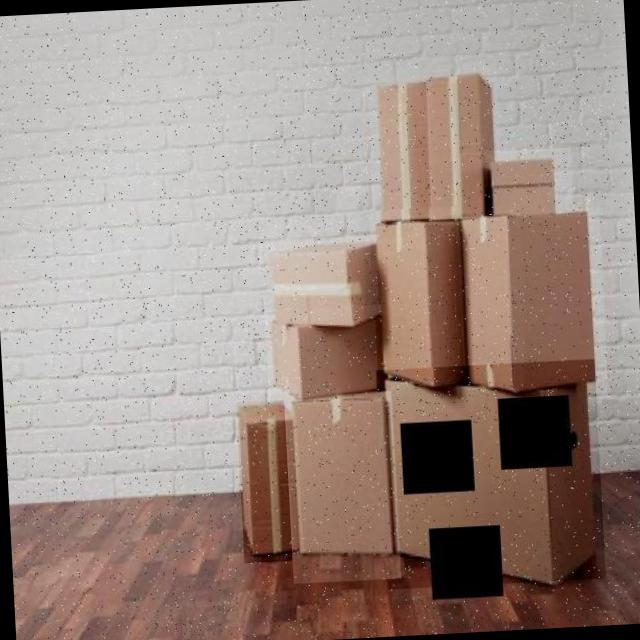box: (376, 358, 606, 590), (456, 208, 609, 406), (366, 62, 504, 231), (284, 391, 402, 584), (369, 206, 470, 404), (264, 304, 388, 407), (270, 240, 376, 336), (236, 400, 298, 564), (484, 145, 574, 222)
